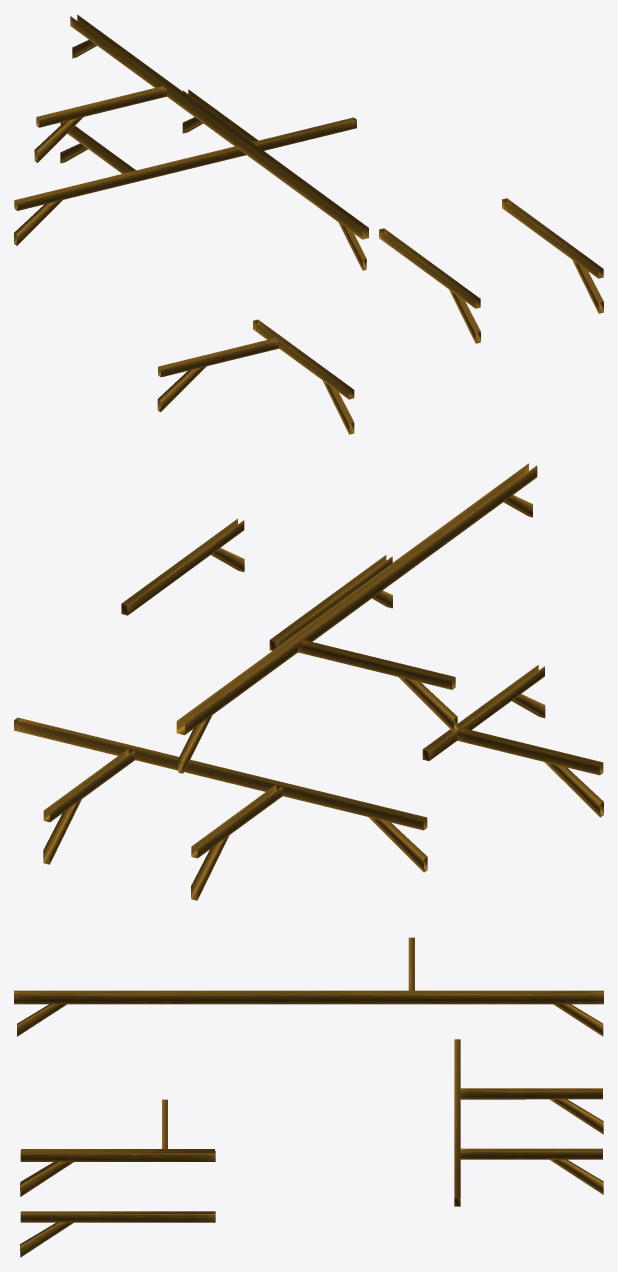
Rendered from HTOWN01_MILLPLATSUPPORTS.fbx.
3 views of the same model, one above another, from view 1: azimuth 30°, elevation 25°; view 2: azimuth 150°, elevation 25°; view 3: azimuth 270°, elevation 25° (orthographic). The views are drawn at different scales.
Visible parts, largest first — view 1: HTOWN01_MILLPLATSUPPORTS; view 2: HTOWN01_MILLPLATSUPPORTS; view 3: HTOWN01_MILLPLATSUPPORTS.
Boxes of the visible parts, x1=… form: HTOWN01_MILLPLATSUPPORTS: x1=14, y1=14, x2=603, y2=434; HTOWN01_MILLPLATSUPPORTS: x1=14, y1=463, x2=603, y2=900; HTOWN01_MILLPLATSUPPORTS: x1=14, y1=937, x2=603, y2=1257.
Size of the model in its own units: 93099 by 48746 by 125812.
1 material, 1 textured.
